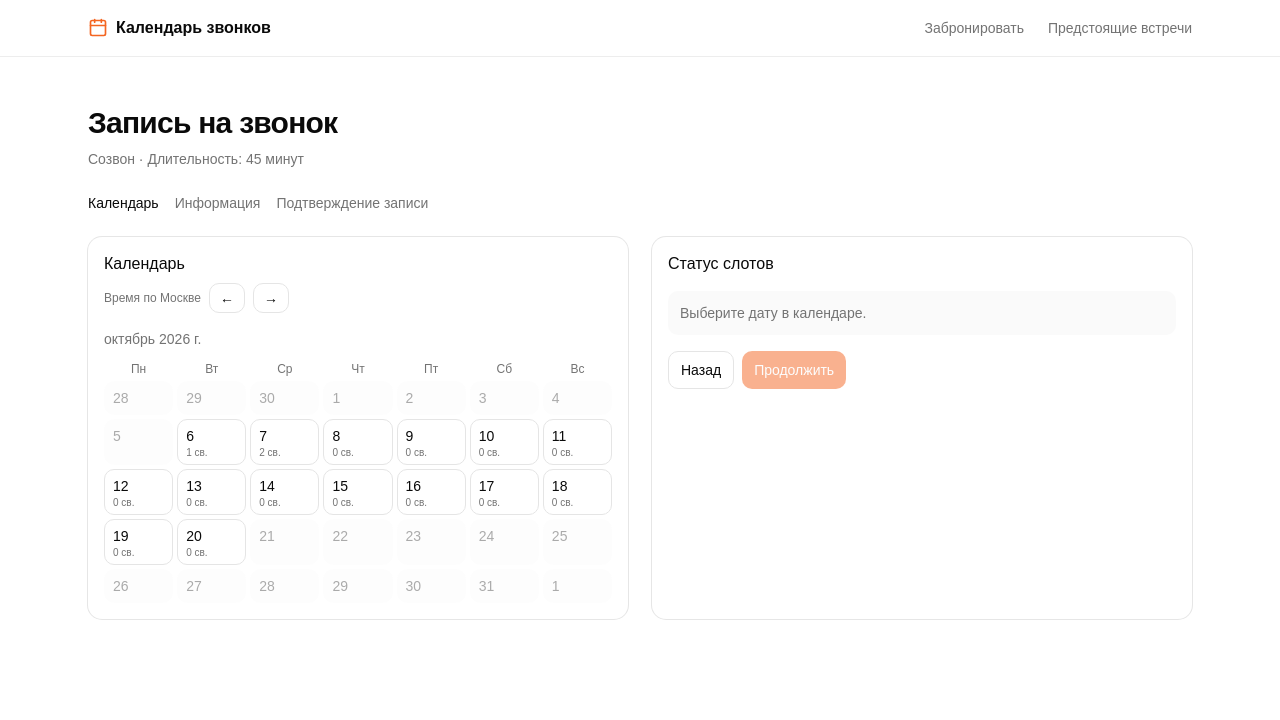
Test case: §5: «Продолжить» открывает шаг «Информация», «Назад» возвращает на календарь
The image size is (1280, 720).
Expected: the text "1 св." is shown, [186,448,208,458]
Expected: the button "Продолжить" is disabled, [742,351,846,389]
Click the button with aria-label "6 октября 2026": [212, 442] box [177,419,246,465]
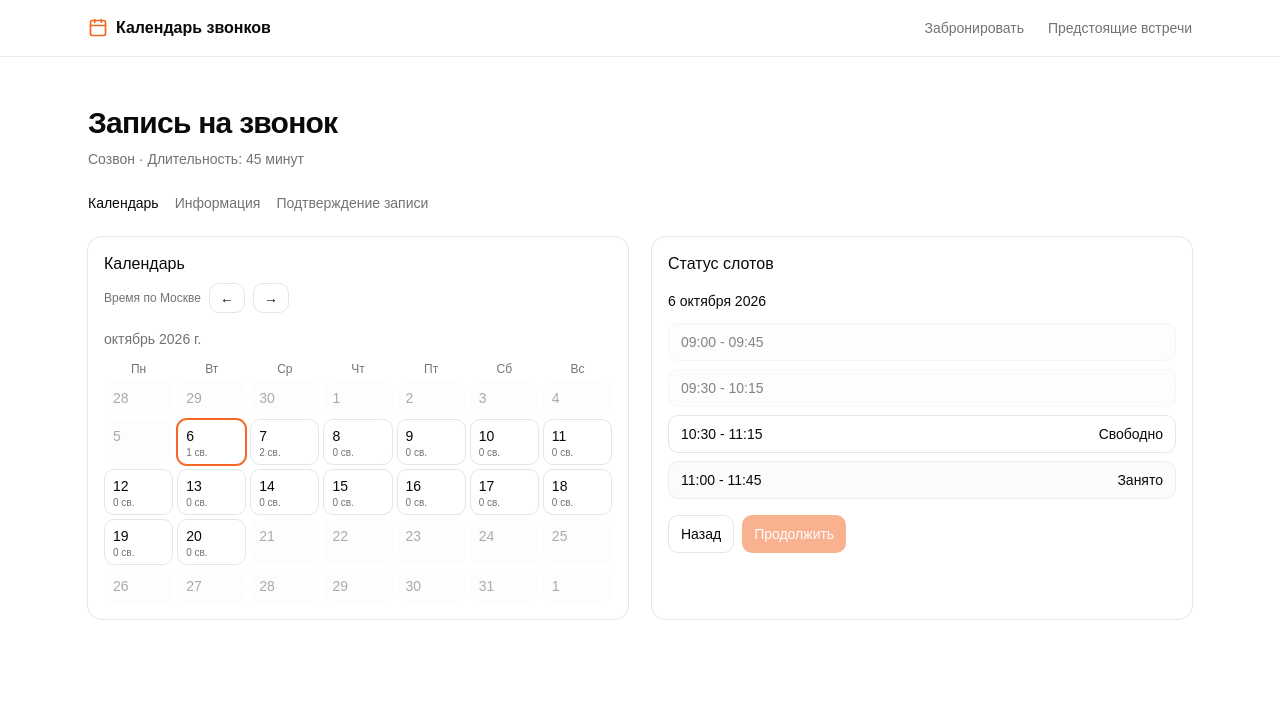
Click the button "10:30 - 11:15 Свободно": [722, 434] box [668,415,1176,453]
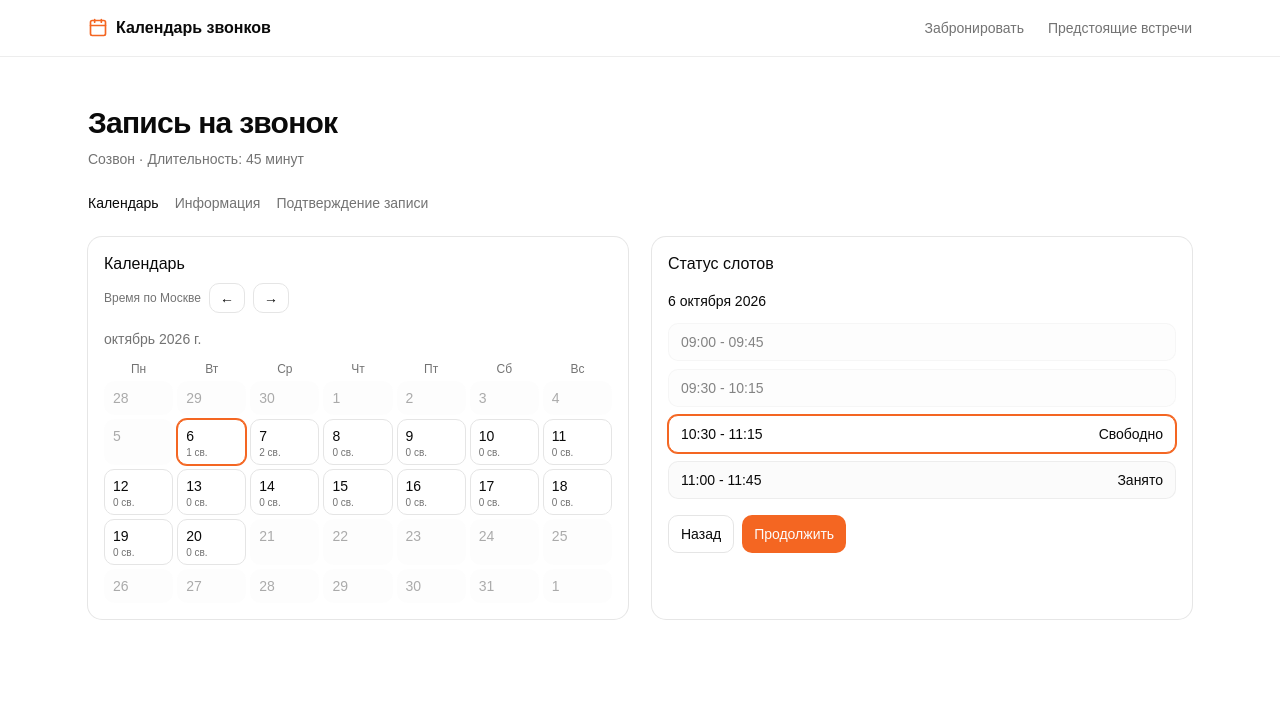
Expected: the button "Продолжить" is enabled
Click the button "Продолжить": [794, 534] box [742,515,846,553]
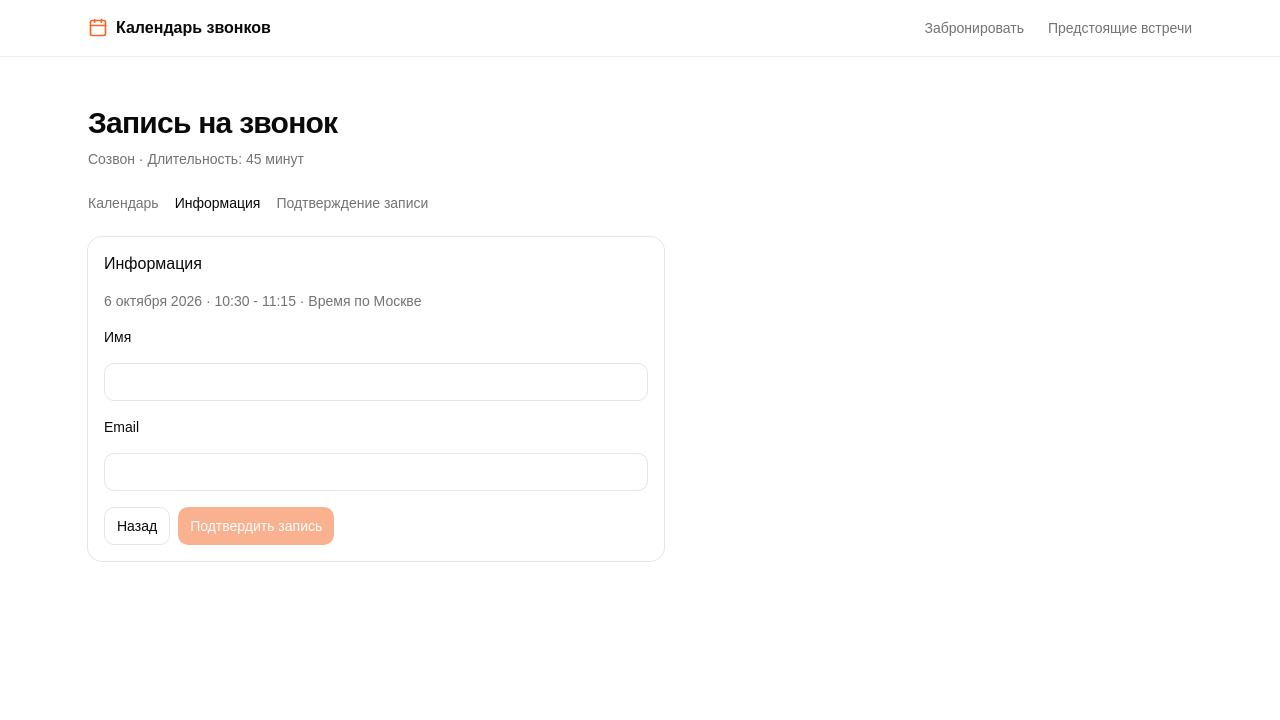
Expected: the field labelled "Имя" is shown, [104,363,648,401]
Expected: the field labelled "Email" is shown, [104,453,648,491]
Expected: the text "6 октября 2026 · 10:30 - 11:15 · Время по Москве" is shown, [104,293,421,309]
Click the button "Назад": [137, 526] box [104,507,170,545]
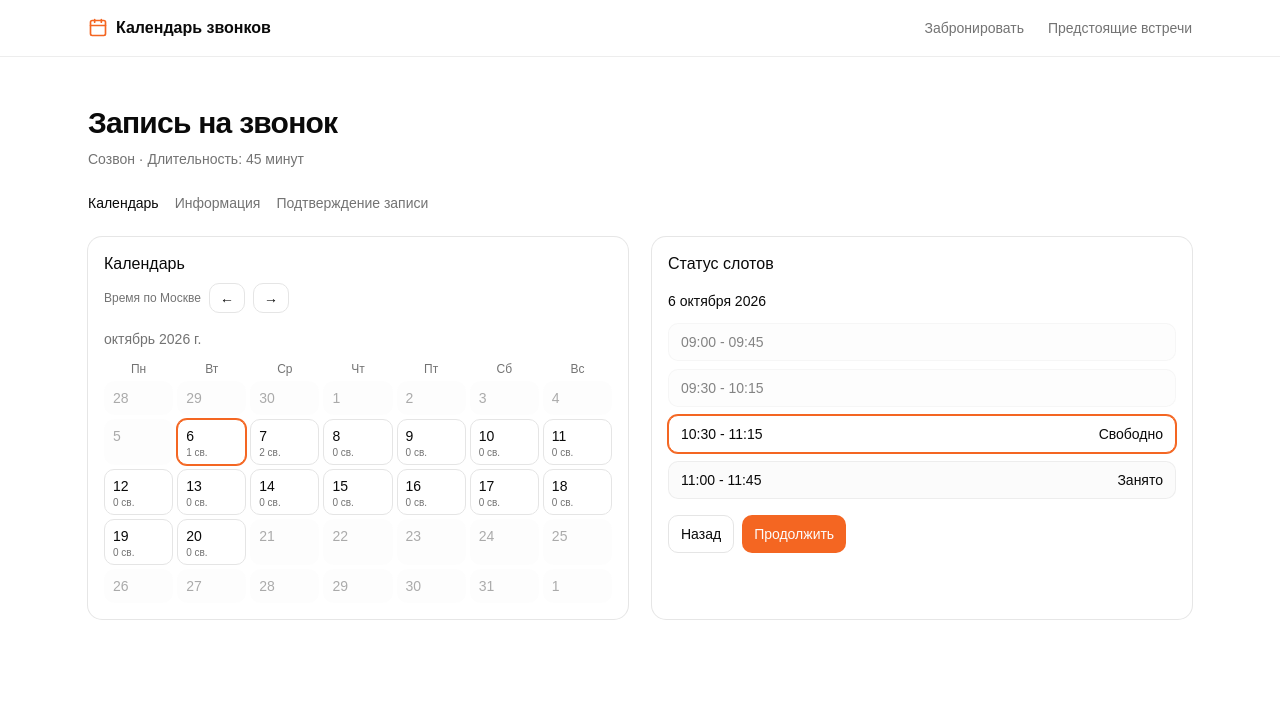
Expected: the text "1 св." is shown, [186,448,208,458]
